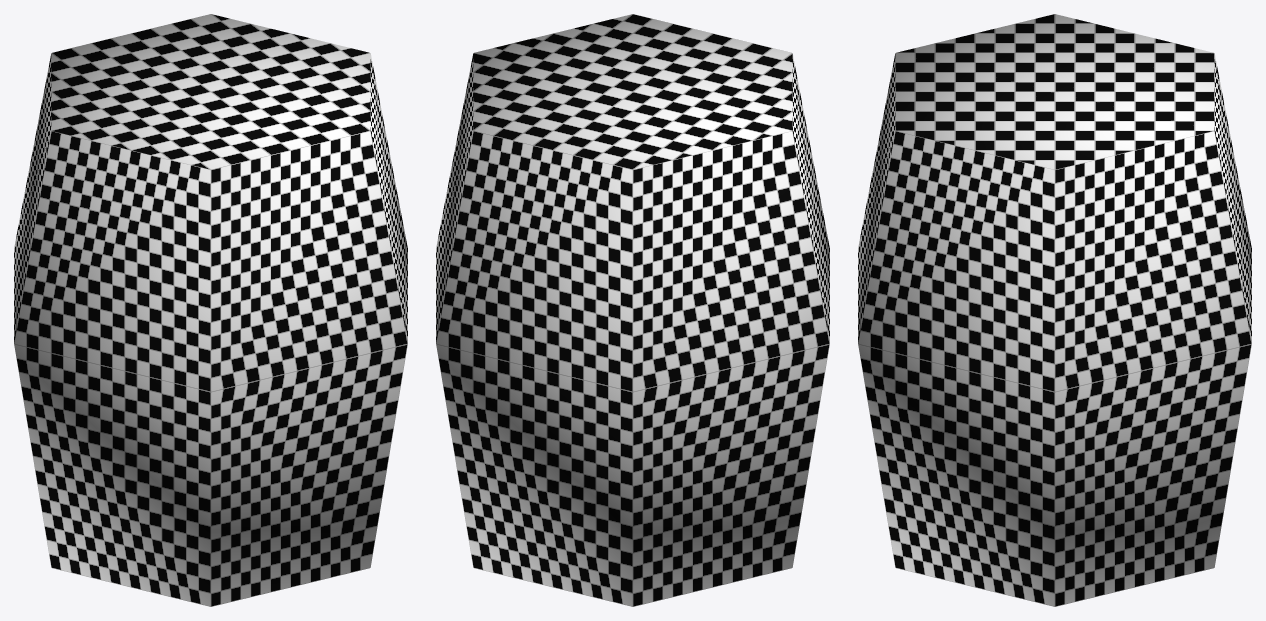
3 renders of one model, left to right at view 1: azimuth 30°, elevation 25°; view 2: azimuth 150°, elevation 25°; view 3: azimuth 270°, elevation 25°, orthographic.
Visible parts, largest first — view 1: cylinder02; view 2: cylinder02; view 3: cylinder02.
Part boxes in pixels (bbox=[...]): cylinder02: bbox=[14, 14, 407, 606]; cylinder02: bbox=[436, 14, 829, 606]; cylinder02: bbox=[858, 14, 1251, 606].
Size of the model in its own units: 0.5237 by 0.4535 by 0.5557.
Materials: 1 (1 with a texture image).
